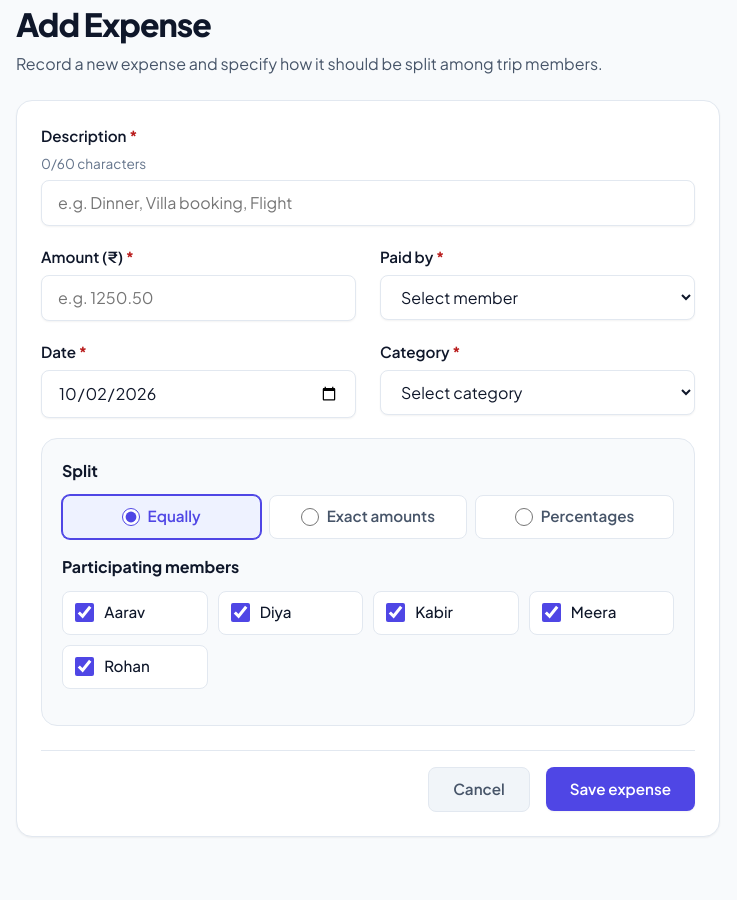
Scenario: AddExpenseForm › 2. Amount -5 shows "Amount must be more than ₹0"
In the field labelled "Amount (₹) *": (198, 298) [41, 275, 356, 321], type "-5"
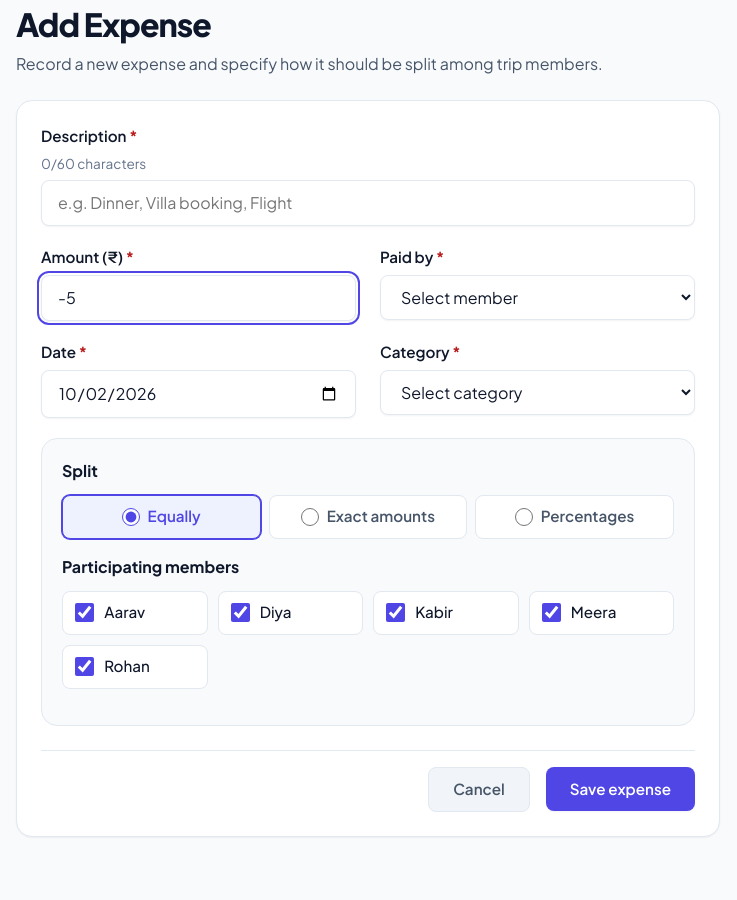
Click the button "Save expense": (620, 789) [546, 767, 695, 811]
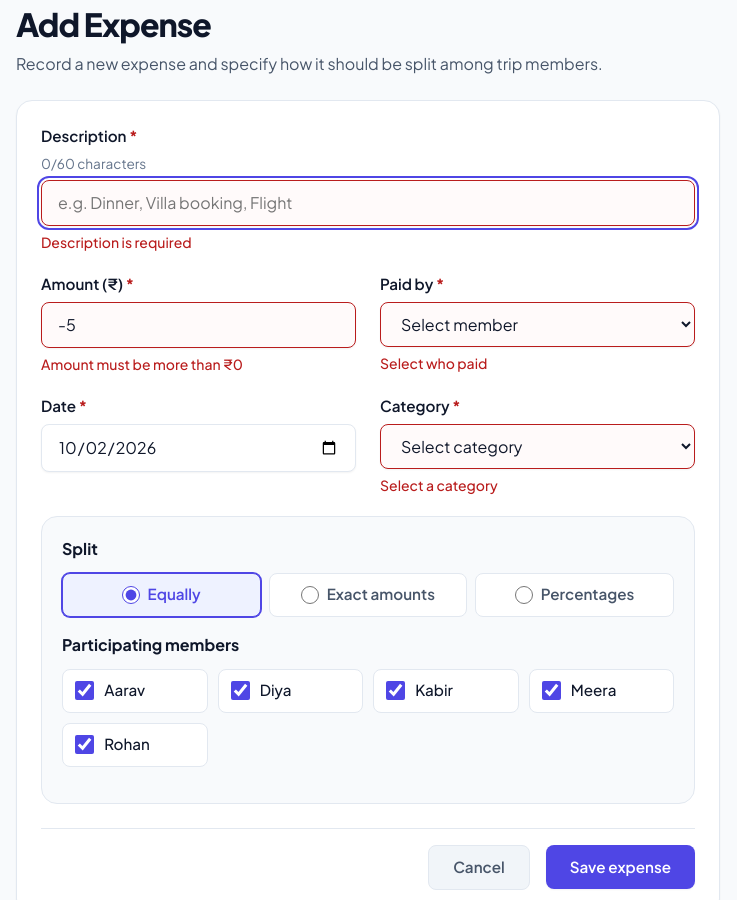
Result: the text "Amount must be more than ₹0" is shown at [41, 355, 243, 373]
